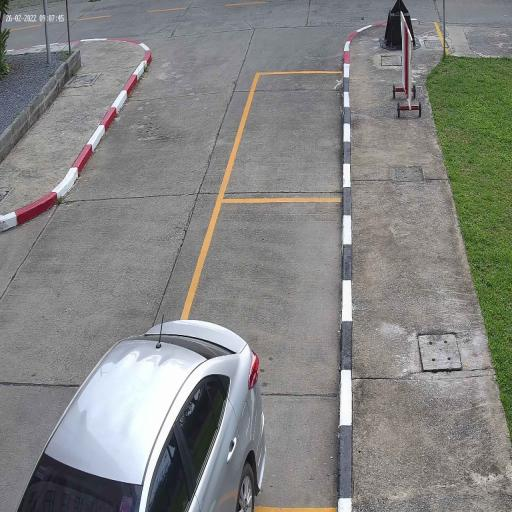car: (14, 319, 268, 512)
